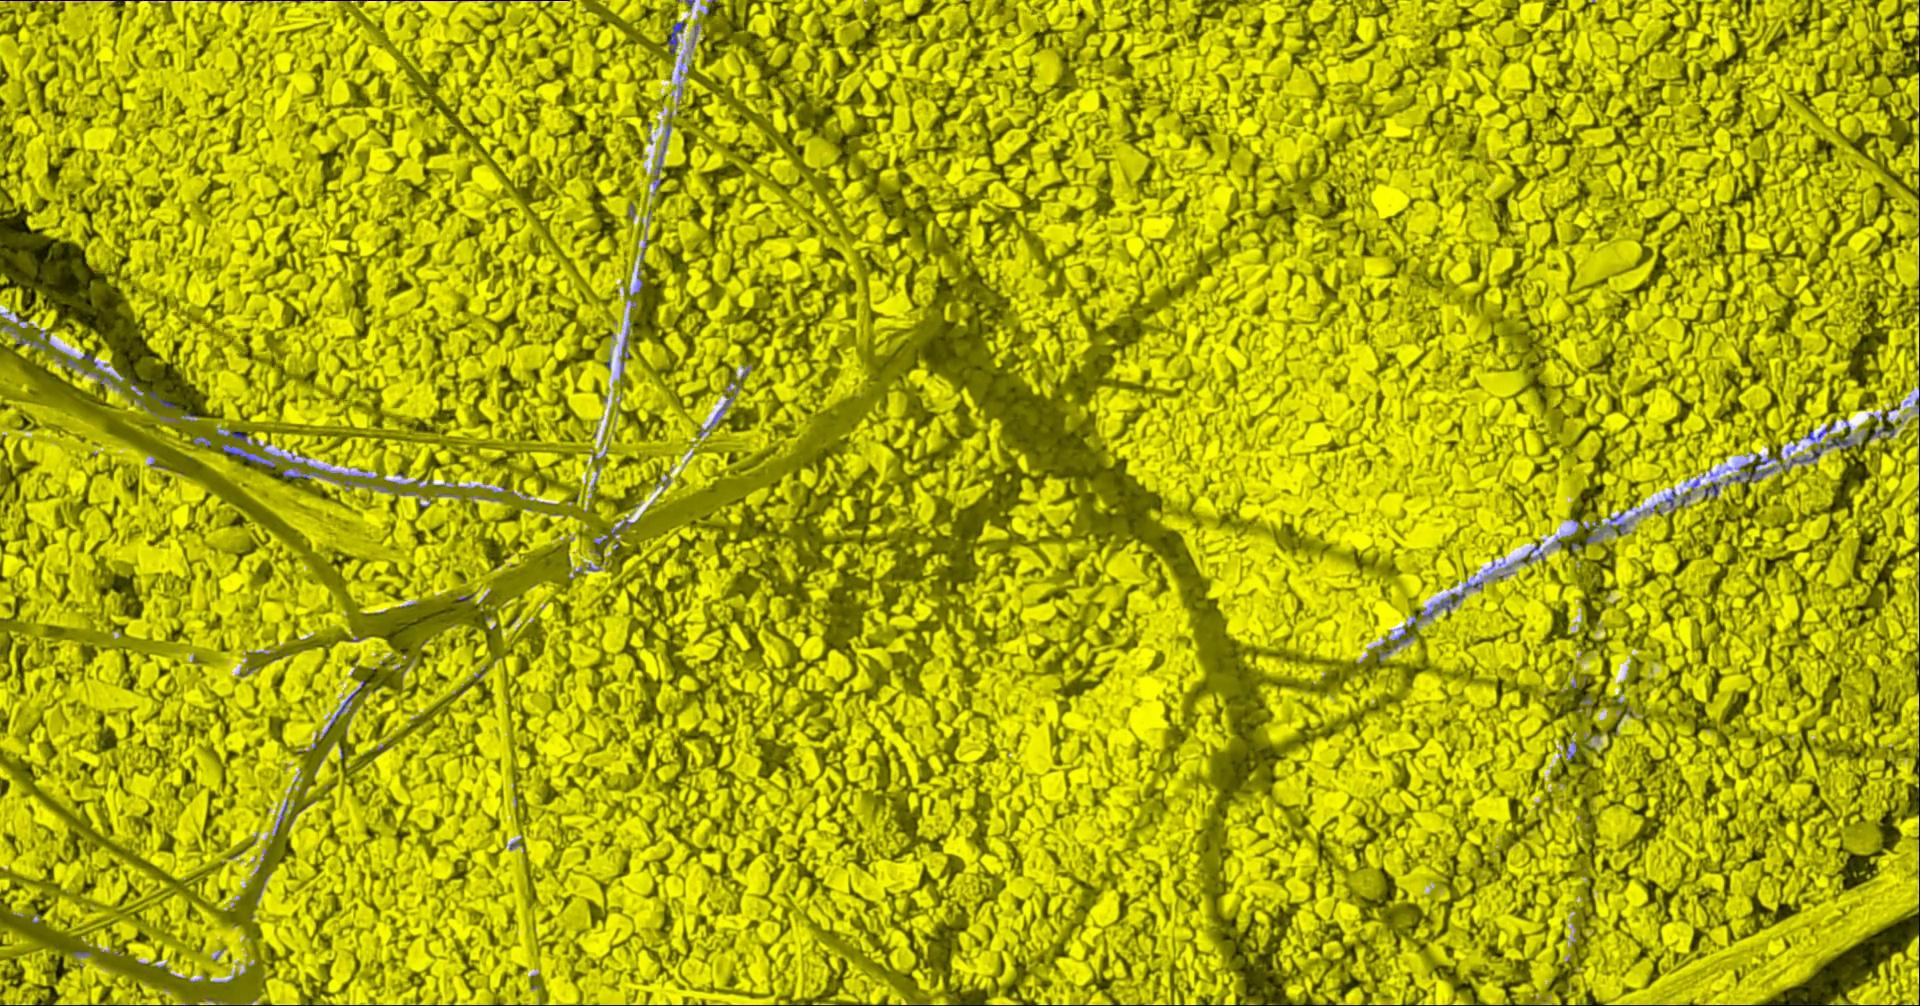ant: (325, 687, 362, 735), (1746, 453, 1778, 481), (669, 20, 687, 55), (1790, 448, 1821, 466), (1437, 593, 1465, 611), (1829, 437, 1853, 448), (1705, 481, 1721, 495)
